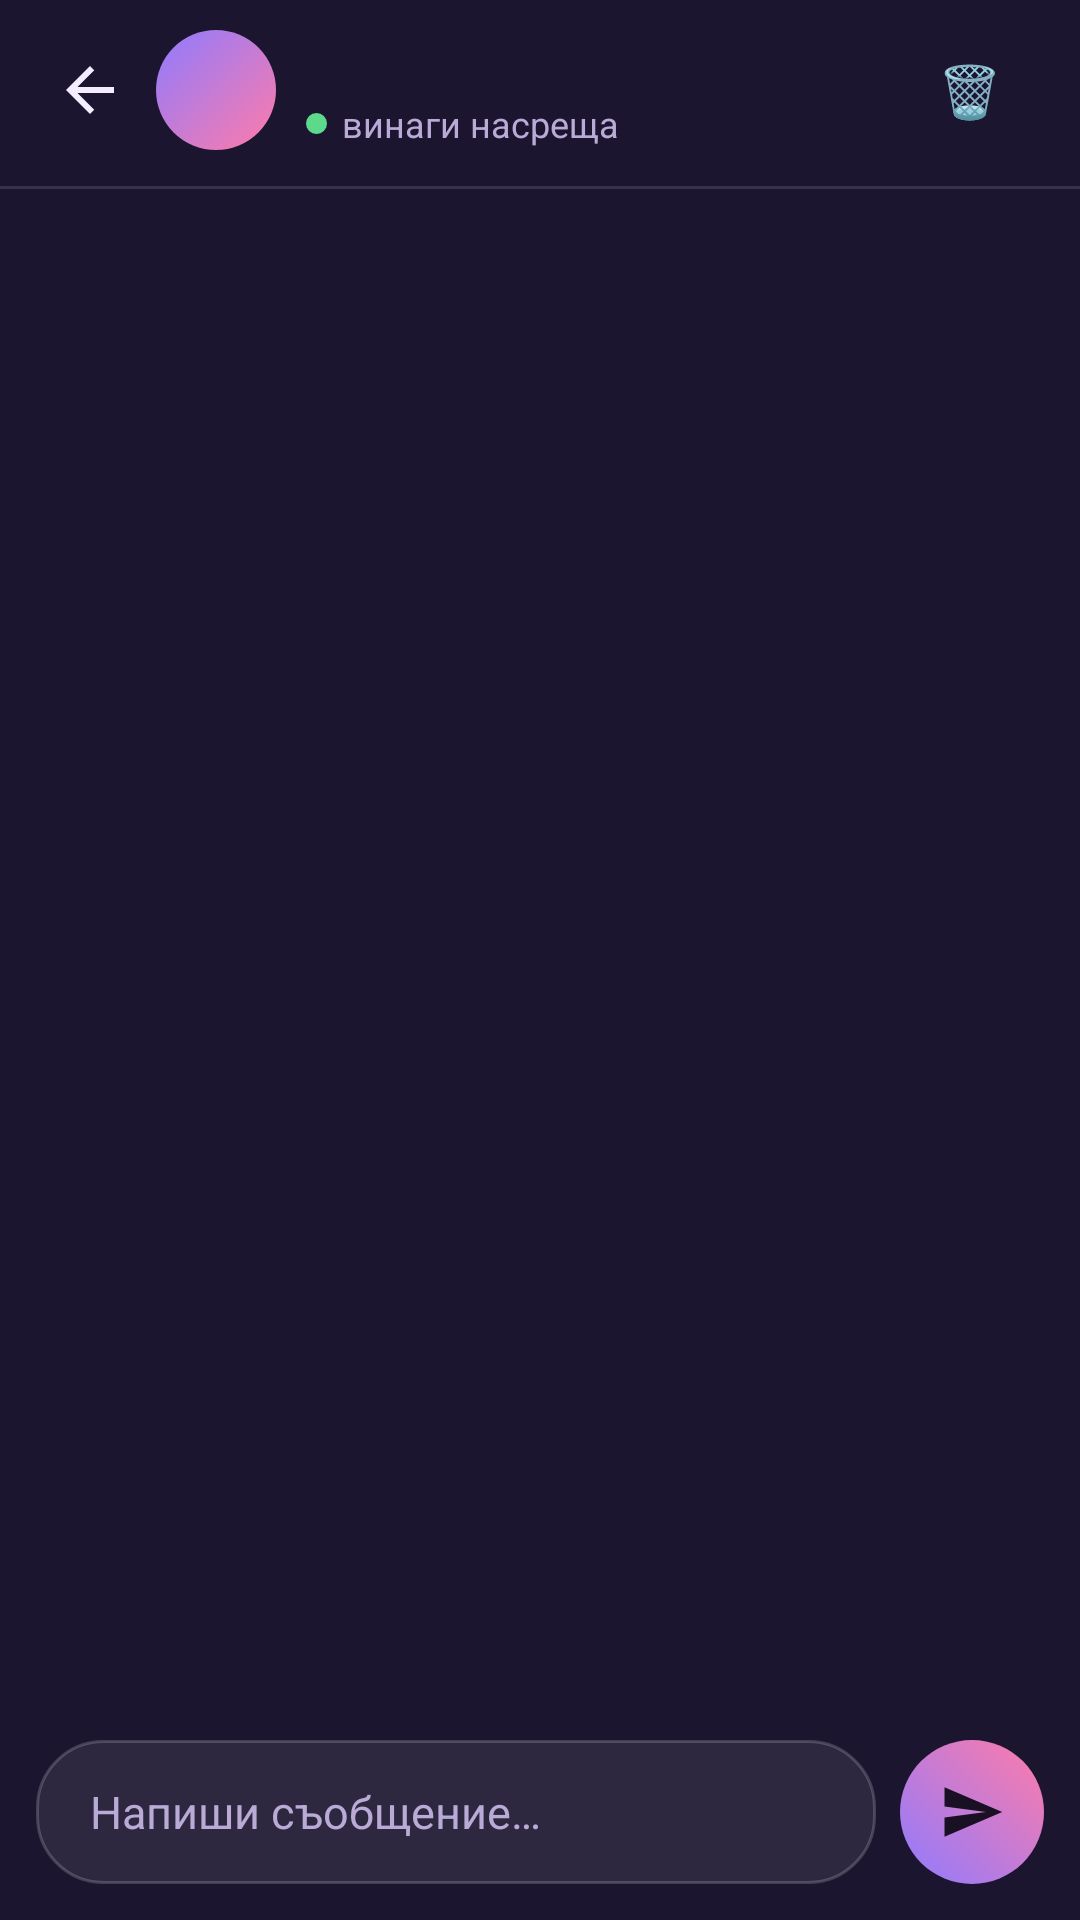

Locate icon controls on the screen. Image size 1080w x 1920h, boxes as Rect(x1, y1, x2, y2).
Изпрати: Rect(939, 1779, 1005, 1845)
Назад: Rect(66, 66, 114, 114)
